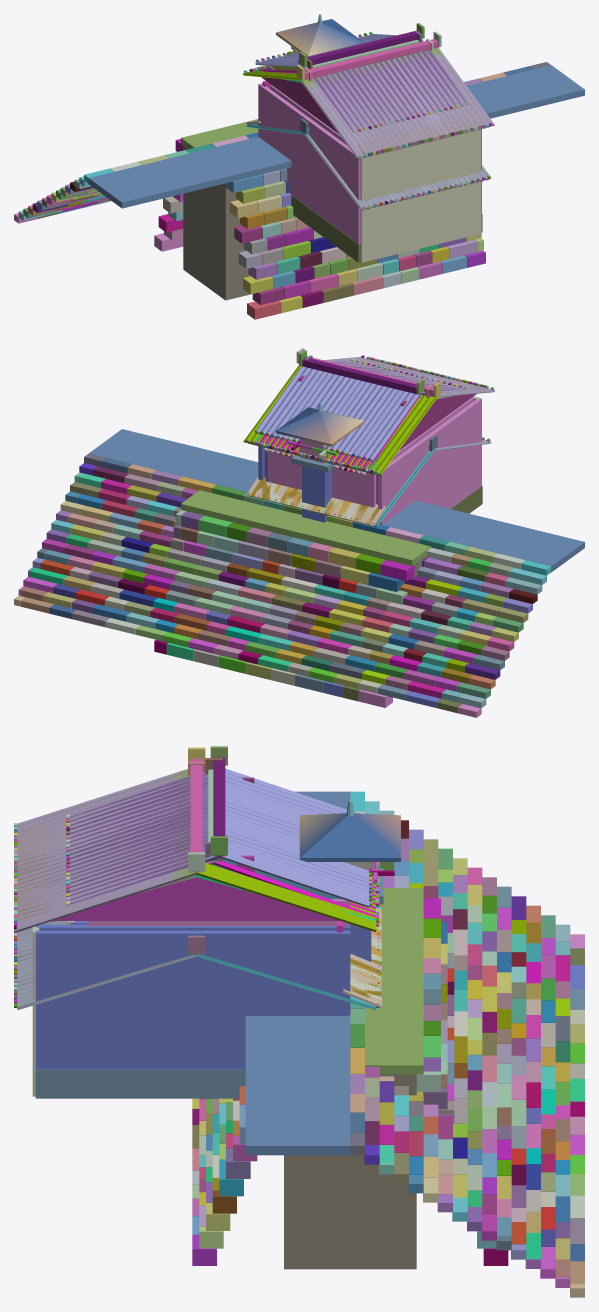
The model's file is port.glb.
The picture shows the model from 3 angles, top to bottom: view 1: azimuth 30°, elevation 25°; view 2: azimuth 150°, elevation 25°; view 3: azimuth 270°, elevation 25°; orthographic projection. The views are drawn at different scales.
Parts seen in each view (by area): view 1: breakwater, machiya1, gangi, machiya0, kura1, machiya3, joyato, machiya2; view 2: gangi, breakwater, machiya1, kura1, joyato, machiya0, machiya3, machiya2, kura0; view 3: gangi, machiya1, breakwater, kura1, joyato, machiya0, machiya3, machiya2.
Part boxes in pixels (x1,y1,x2,y2): breakwater: [154, 119, 485, 319]; machiya1: [243, 31, 494, 262]; gangi: [14, 62, 584, 223]; machiya0: [251, 39, 487, 260]; kura1: [255, 23, 469, 133]; machiya3: [246, 119, 490, 261]; joyato: [276, 14, 364, 56]; machiya2: [257, 31, 422, 73]; gangi: [14, 429, 584, 717]; breakwater: [154, 490, 431, 707]; machiya1: [243, 348, 495, 526]; kura1: [254, 350, 467, 506]; joyato: [276, 402, 363, 522]; machiya0: [251, 355, 486, 523]; machiya3: [248, 435, 491, 527]; machiya2: [259, 355, 421, 521]; kura0: [263, 375, 406, 487]; gangi: [245, 791, 584, 1297]; machiya1: [14, 747, 381, 1098]; breakwater: [192, 888, 508, 1269]; kura1: [66, 746, 372, 926]; joyato: [299, 800, 400, 961]; machiya0: [14, 762, 381, 1008]; machiya3: [14, 921, 381, 1009]; machiya2: [52, 758, 381, 985].
Size of the model in its own units: 24 by 12.28 by 16.35.
